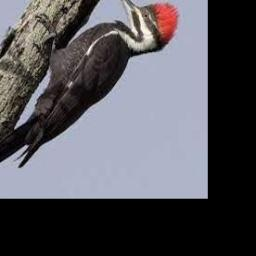Woodpecker: (0, 0, 179, 182)
